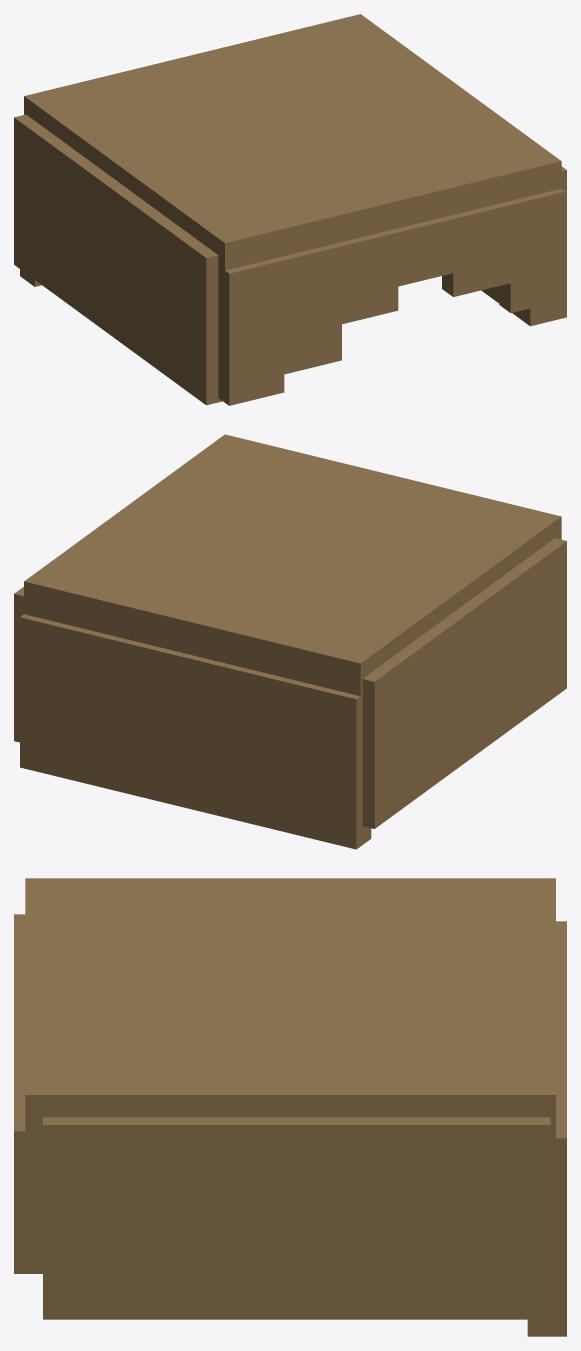
Rendered from hair_short.glb.
The picture shows the model from 3 angles, top to bottom: view 1: azimuth 30°, elevation 25°; view 2: azimuth 150°, elevation 25°; view 3: azimuth 270°, elevation 25°; orthographic projection. The views are drawn at different scales.
Visible parts, largest first — view 1: char_hair_visual; view 2: char_hair_visual; view 3: char_hair_visual.
Part boxes in pixels (x1=…): char_hair_visual: x1=14, y1=14, x2=566, y2=405; char_hair_visual: x1=14, y1=434, x2=566, y2=849; char_hair_visual: x1=14, y1=878, x2=566, y2=1336.
Size of the model in its own units: 0.628 by 0.3045 by 0.6315.
